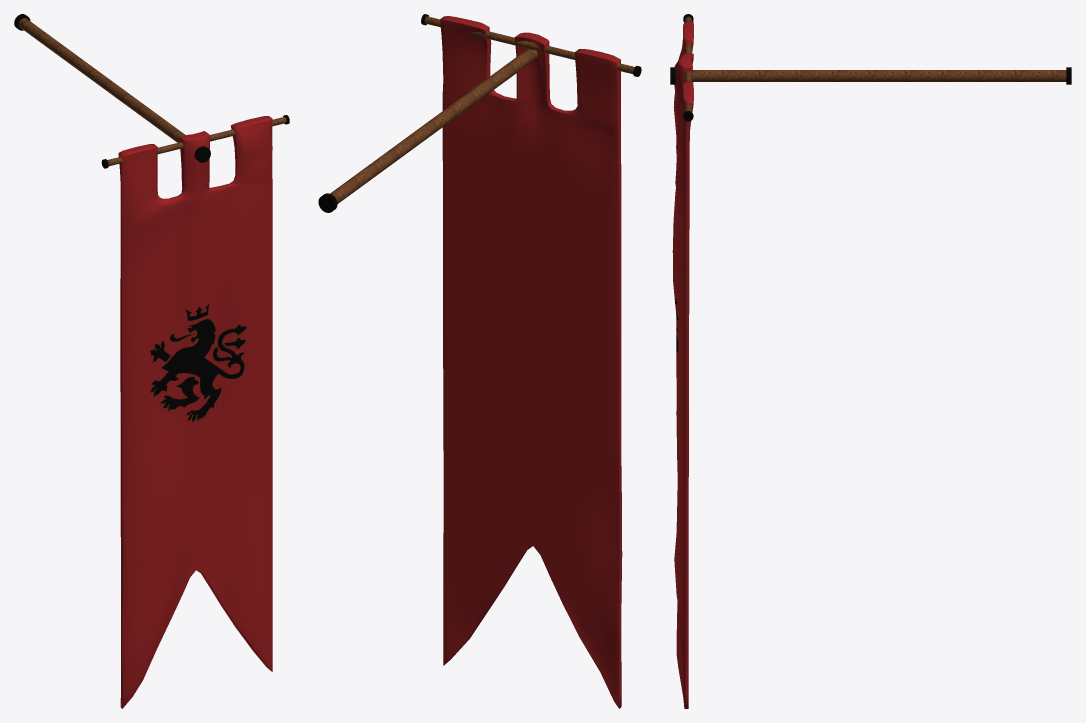
The model's file is fbxFlag.fbx.
3 views of the same model, side by side, from view 1: azimuth 30°, elevation 25°; view 2: azimuth 150°, elevation 25°; view 3: azimuth 270°, elevation 25° (orthographic). The views are drawn at different scales.
Parts seen in each view (by area): view 1: cloth, flag:building:alexandriaRender:alexandria:pCylinder2, flag:building:alexandriaRender:alexandria:pCylinder1; view 2: cloth, flag:building:alexandriaRender:alexandria:pCylinder2, flag:building:alexandriaRender:alexandria:pCylinder1; view 3: cloth, flag:building:alexandriaRender:alexandria:pCylinder2.
Boxes of the visible parts, left/top/right/bottom form: cloth: left=118, top=116, right=272, bottom=708; flag:building:alexandriaRender:alexandria:pCylinder2: left=14, top=14, right=210, bottom=162; flag:building:alexandriaRender:alexandria:pCylinder1: left=101, top=115, right=289, bottom=168; cloth: left=440, top=16, right=622, bottom=708; flag:building:alexandriaRender:alexandria:pCylinder2: left=318, top=48, right=538, bottom=212; flag:building:alexandriaRender:alexandria:pCylinder1: left=421, top=14, right=641, bottom=76; cloth: left=672, top=21, right=693, bottom=708; flag:building:alexandriaRender:alexandria:pCylinder2: left=670, top=67, right=1071, bottom=84.
Bounding box in the file's own units: 0.4901 × 1.42 × 0.8463.
4 materials, 3 textured.
